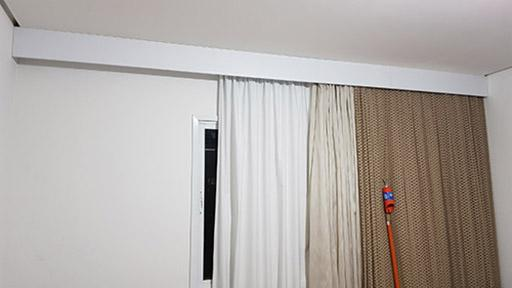Detector_Tensao_Contato: (381, 176, 395, 215)
Vara_Manobra: (383, 212, 403, 288)
